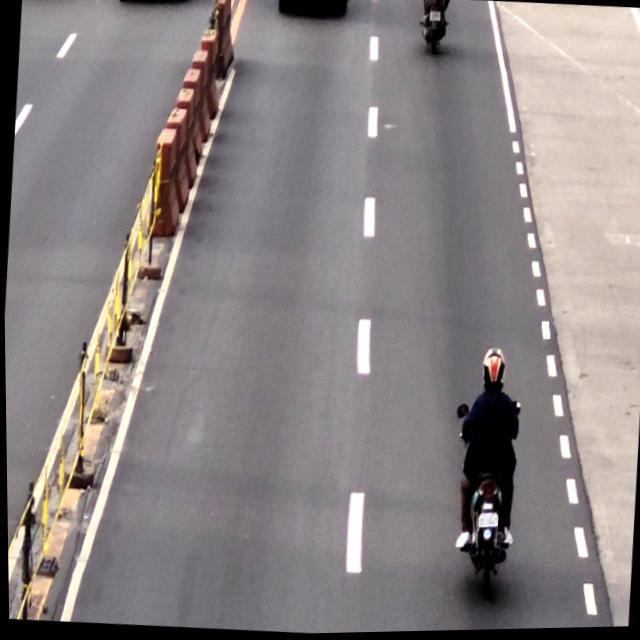License-Plate: (474, 508, 498, 535)
Motorcycle: (447, 348, 525, 607), (417, 0, 453, 55)
